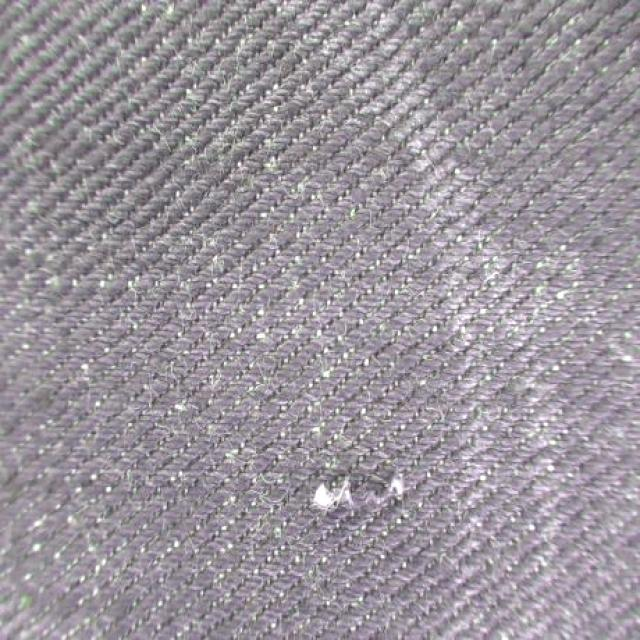stains: (261, 419, 432, 583)
